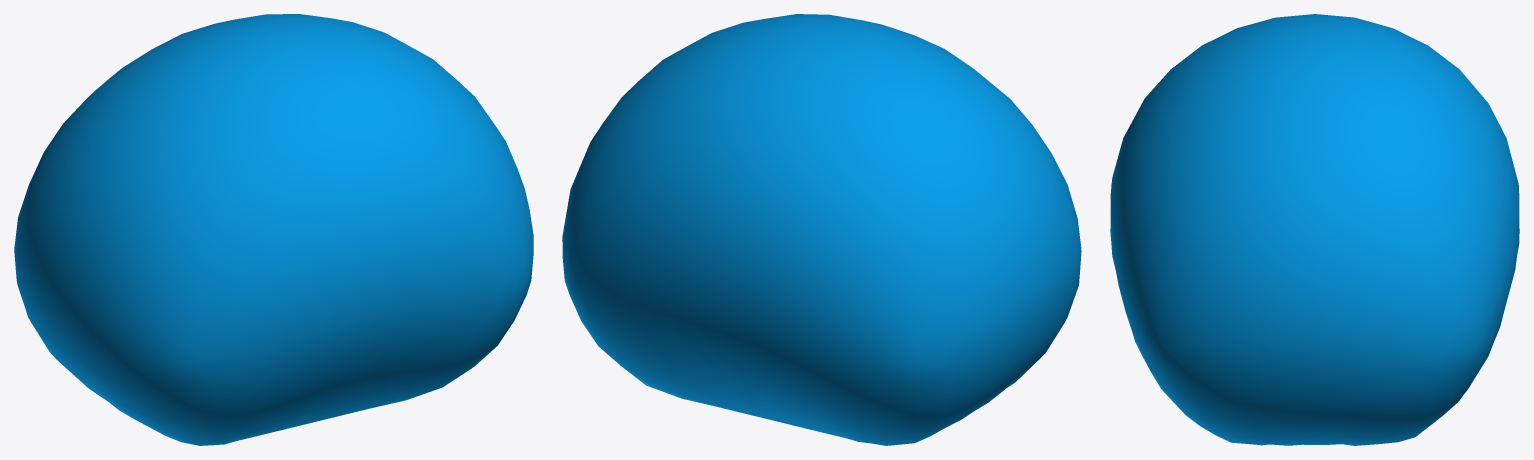
File: hvs_quest_ballooncrate_balloon_pose1.fbx
The picture shows the model from 3 angles, left to right: view 1: azimuth 30°, elevation 25°; view 2: azimuth 150°, elevation 25°; view 3: azimuth 270°, elevation 25°; orthographic projection.
Parts seen in each view (by area): view 1: Balloon_pose1; view 2: Balloon_pose1; view 3: Balloon_pose1.
Boxes of the visible parts, x1,y1,x2,y2 form: Balloon_pose1: (14, 14, 533, 445); Balloon_pose1: (562, 14, 1081, 445); Balloon_pose1: (1110, 14, 1519, 445).
Bounding box in the file's own units: 16.69 × 13.01 × 13.48.
